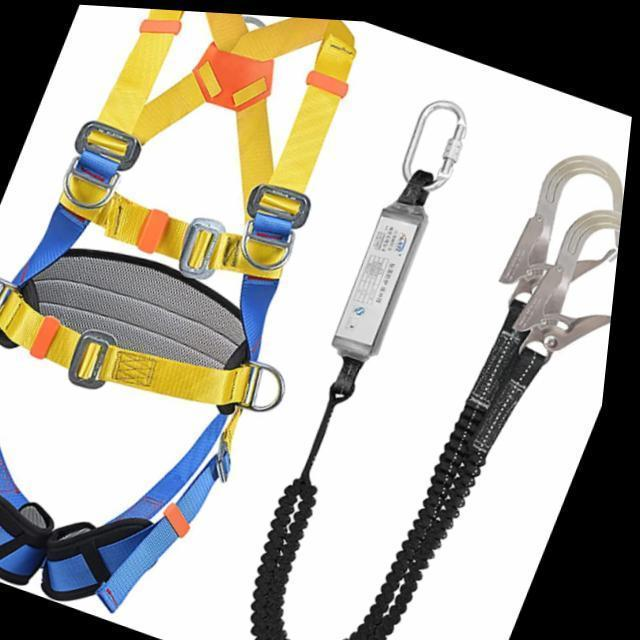Harness: (35, 10, 356, 391), (43, 401, 240, 598)
